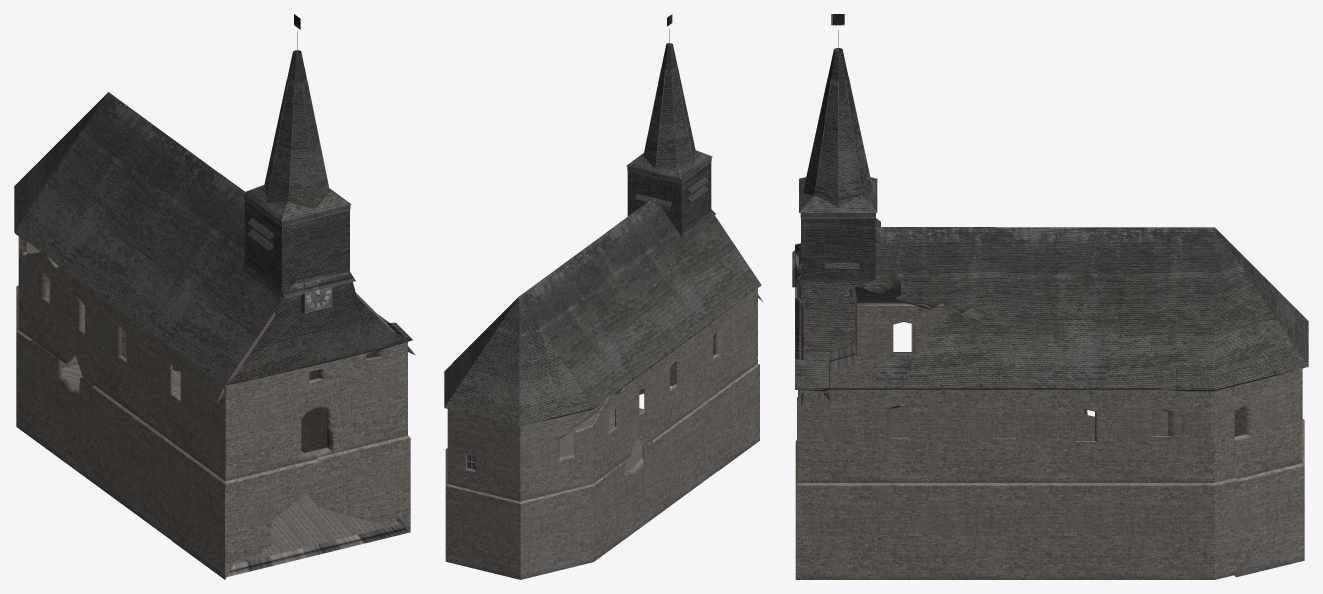
Rendered from ChurchParted.fbx.
3 views of the same model, side by side, from view 1: azimuth 30°, elevation 25°; view 2: azimuth 150°, elevation 25°; view 3: azimuth 270°, elevation 25° (orthographic). The views are drawn at different scales.
Visible parts, largest first — view 1: Shard1, Shard2, Shard4, Shard3; view 2: Shard2, Shard1, Shard3, Shard4; view 3: Shard4, Shard2, Shard3, Shard1.
Part boxes in pixels (x1,y1,x2,y2): Shard1: [51, 172, 412, 579]; Shard2: [14, 92, 217, 540]; Shard4: [172, 314, 410, 577]; Shard3: [216, 14, 414, 403]; Shard2: [444, 232, 717, 579]; Shard1: [602, 197, 761, 483]; Shard3: [626, 14, 763, 302]; Shard4: [445, 362, 675, 471]; Shard4: [795, 312, 1243, 579]; Shard2: [895, 227, 1308, 577]; Shard3: [792, 14, 880, 410]; Shard1: [795, 227, 1087, 439].
Size of the model in its own units: 0.0858 by 0.2165 by 0.1932.
Materials: 1 (1 with a texture image).
